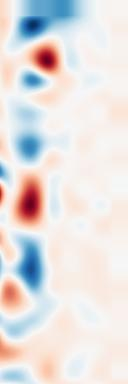filament: (8, 170, 53, 227)
